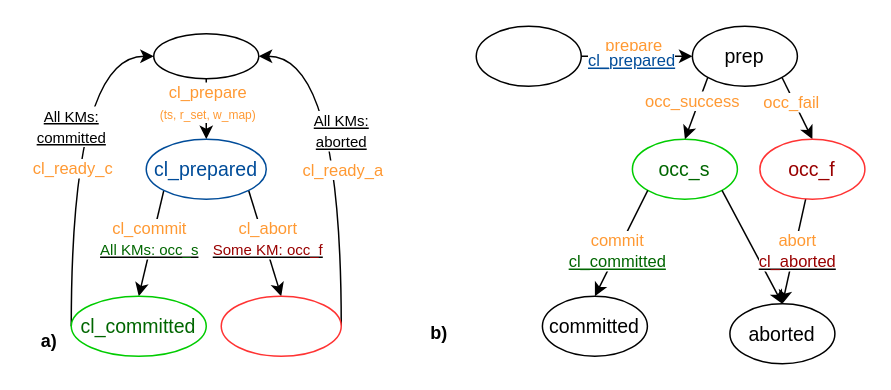
This 891x390 diagram has some shape labels left out. The centre of each missing label's shape, as x and y in pixels:
"cl_aborted" goes at pixel 280 325.
"cl_init" goes at pixel 205 55.
"idle" goes at pixel 528 55.
